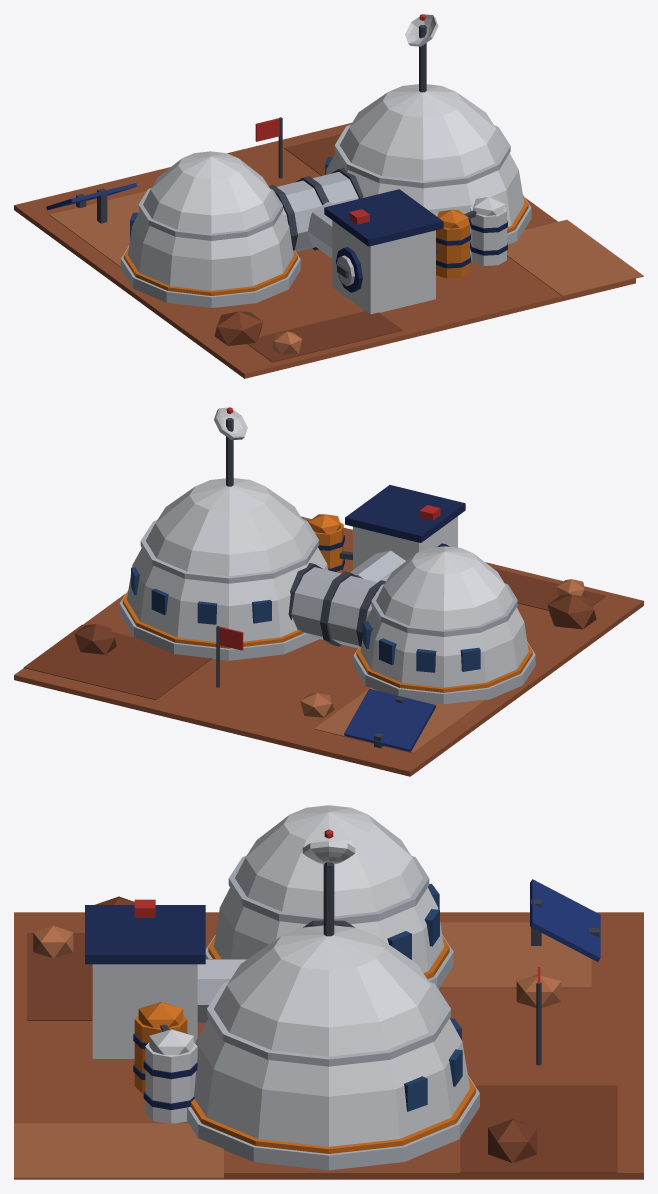
Rendered from Decor_LaunchPad_Habitat.fbx.
3 renders of one model, top to bottom at view 1: azimuth 30°, elevation 25°; view 2: azimuth 150°, elevation 25°; view 3: azimuth 270°, elevation 25°, orthographic. The views are drawn at different scales.
Parts seen in each view (by area): view 1: Habitat_Body; view 2: Habitat_Body; view 3: Habitat_Body.
Part boxes in pixels (x1=…): Habitat_Body: x1=14, y1=14, x2=643, y2=378; Habitat_Body: x1=14, y1=407, x2=643, y2=776; Habitat_Body: x1=14, y1=805, x2=643, y2=1179.
Bounding box in the file's own units: 24 × 12.2 × 24.
